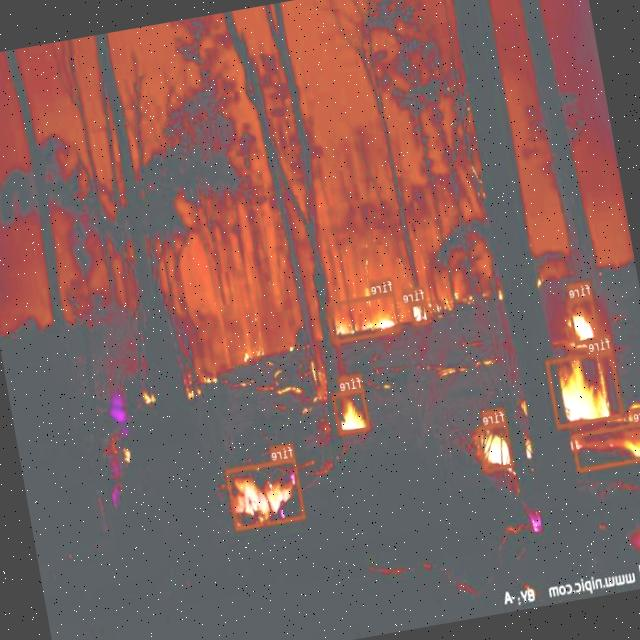fire: (546, 348, 624, 428), (225, 456, 306, 530), (325, 290, 401, 343), (571, 418, 640, 471), (476, 420, 514, 470), (332, 386, 371, 434), (567, 294, 601, 344), (409, 298, 431, 324)
